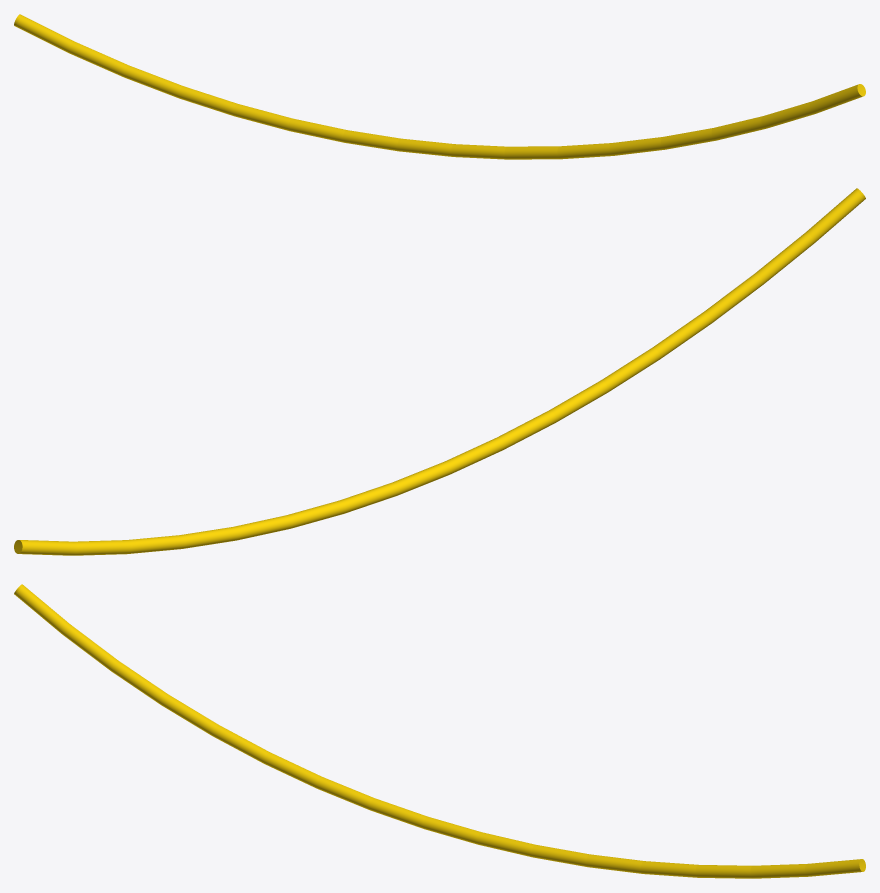
Rendered from Event_421115418_track_10.fbx.
The picture shows the model from 3 angles, top to bottom: view 1: azimuth 90°, elevation 25°; view 2: azimuth 150°, elevation 25°; view 3: azimuth 270°, elevation 25°; orthographic projection. The views are drawn at different scales.
Parts seen in each view (by area): view 1: Model; view 2: Model; view 3: Model.
Part boxes in pixels (bbox=[...]): Model: bbox=[14, 14, 865, 159]; Model: bbox=[14, 188, 865, 555]; Model: bbox=[14, 584, 865, 878].
Bounding box in the file's own units: 1.29 × 0.5566 × 2.6.
